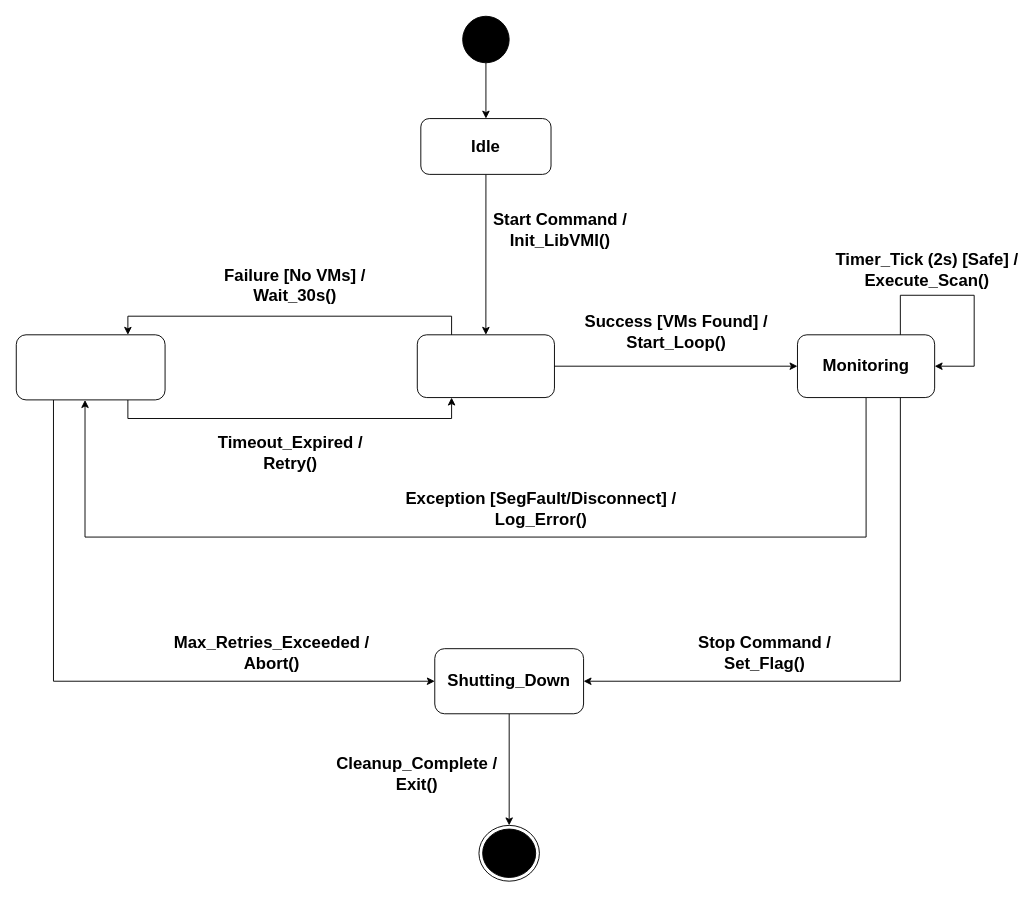
The diagram is 1036 pixels wide and 897 high, and some of its shapes have lost their labels. Here are the shapes that lost their labels. From the top down, the centre of each, then its label:
(90,367): Error_Recovery
(485,366): Initializing
